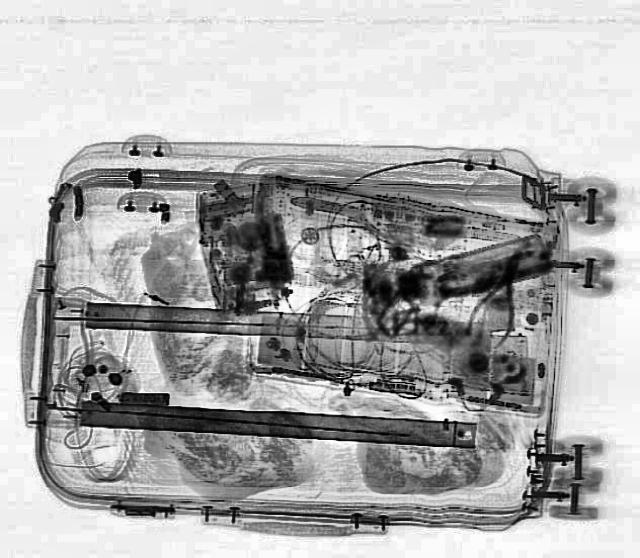Pliers: (458, 249, 540, 351)
